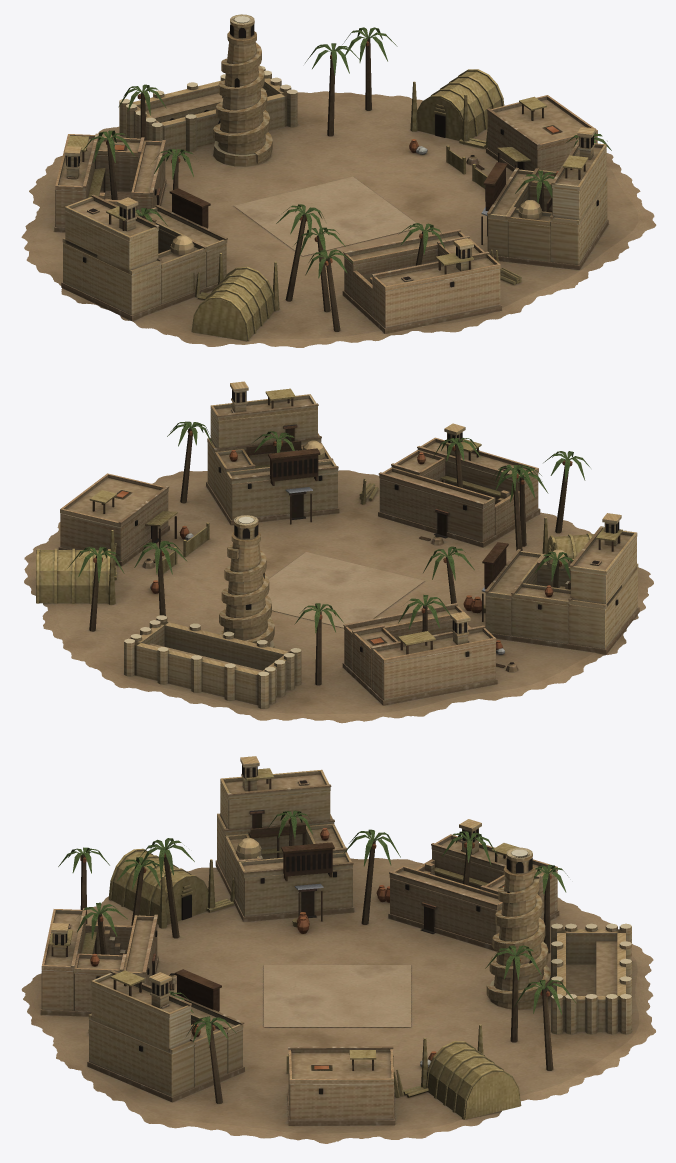
Rendered from kingdoms-town-small-a-mesopotamia.glb.
3 views of the same model, one above another, from view 1: azimuth 30°, elevation 25°; view 2: azimuth 150°, elevation 25°; view 3: azimuth 270°, elevation 25° (orthographic). The views are drawn at different scales.
Parts seen in each view (by area): view 1: LOD0; view 2: LOD0; view 3: LOD0.
Part boxes in pixels (x1,y1,x2,y2): LOD0: (21, 14, 656, 347); LOD0: (24, 381, 653, 723); LOD0: (21, 756, 655, 1143).
Size of what is drawn, in the model's own units: 3.98 by 0.9373 by 3.71.
Materials: 3 (3 with a texture image).
